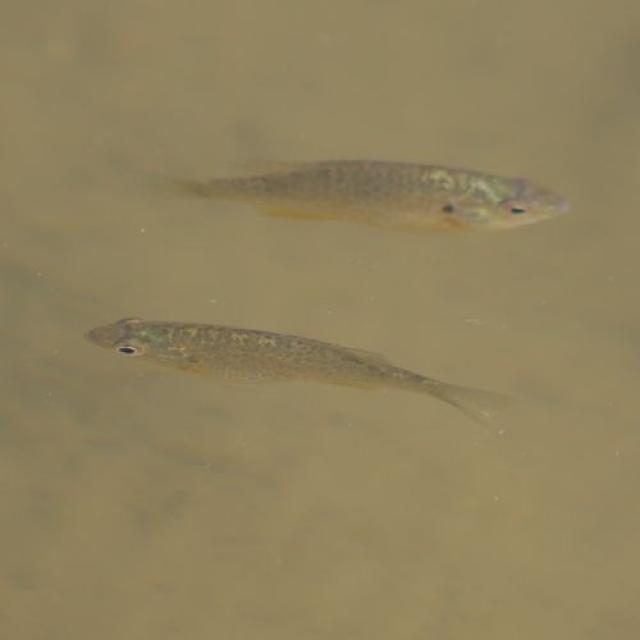Gunes Levregi: (168, 154, 578, 238)
